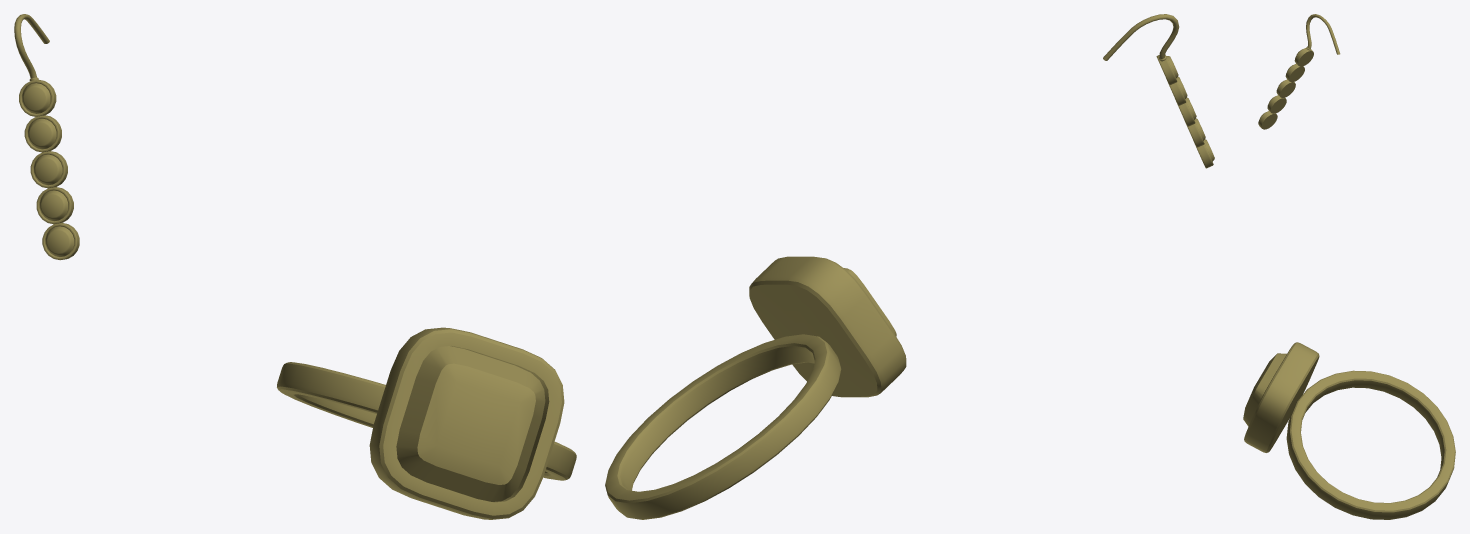
Rendered from jewel-5.glb.
3 renders of one model, left to right at view 1: azimuth 30°, elevation 25°; view 2: azimuth 150°, elevation 25°; view 3: azimuth 270°, elevation 25°, orthographic. The views are drawn at different scales.
Visible parts, largest first — view 1: Object005, Object006; view 2: Object005, Object006; view 3: Object005, Object006.
Part boxes in pixels (bbox=[...]): Object005: bbox=[277, 327, 576, 519]; Object006: bbox=[14, 14, 79, 260]; Object005: bbox=[605, 256, 906, 519]; Object006: bbox=[1103, 14, 1214, 168]; Object005: bbox=[1243, 342, 1455, 519]; Object006: bbox=[1258, 14, 1340, 129].
Bounding box in the file's own units: 0.1016 × 0.1038 × 0.0565.
